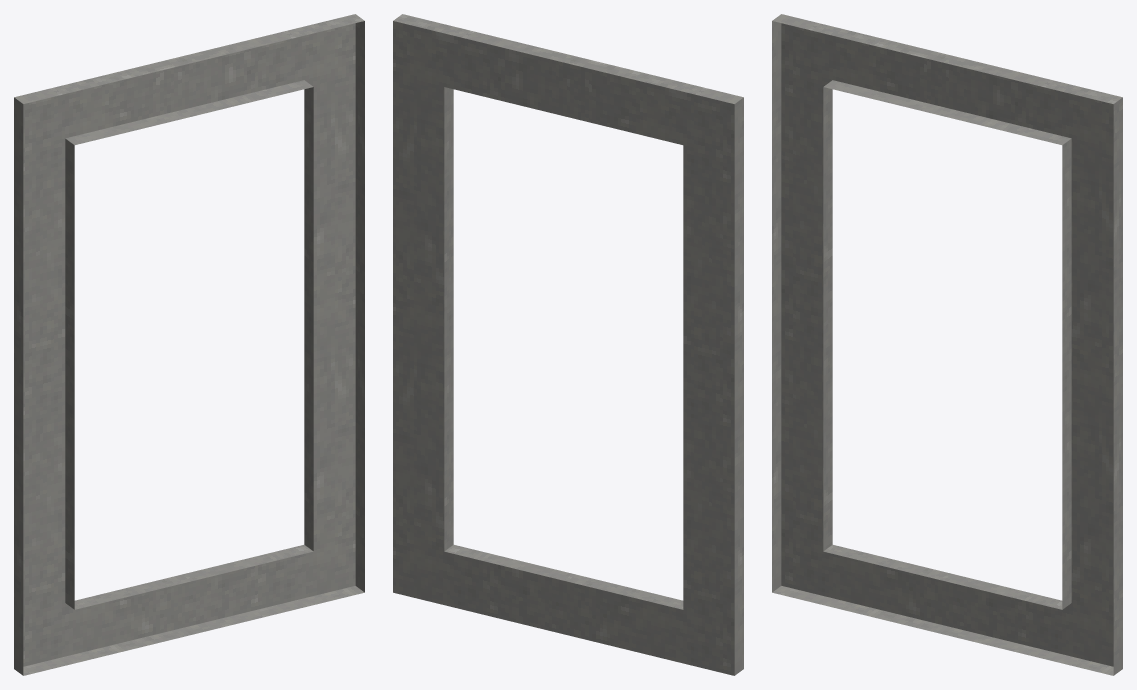
The model's file is GJ_Wall_Window_05_04.fbx.
3 renders of one model, left to right at view 1: azimuth 30°, elevation 25°; view 2: azimuth 150°, elevation 25°; view 3: azimuth 330°, elevation 25°, orthographic.
Visible parts, largest first — view 1: GJ_Wall_Window_05_04; view 2: GJ_Wall_Window_05_04; view 3: GJ_Wall_Window_05_04.
Boxes of the visible parts, bbox=[...] form: GJ_Wall_Window_05_04: bbox=[14, 14, 364, 675]; GJ_Wall_Window_05_04: bbox=[393, 14, 743, 675]; GJ_Wall_Window_05_04: bbox=[772, 14, 1122, 675].
Bounding box in the file's own units: 125 × 200 × 5.98.
